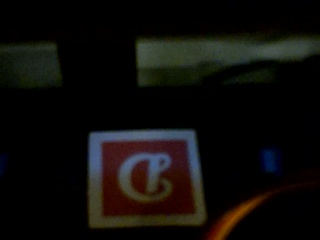D: (101, 139, 197, 217)
